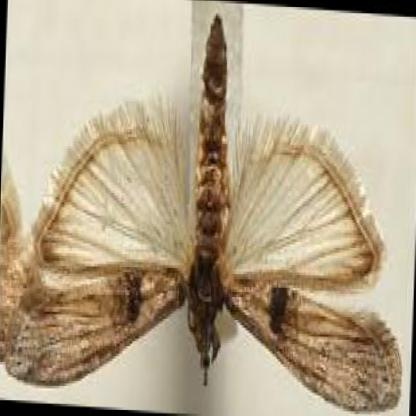Leaf Webber: (3, 5, 400, 415)
